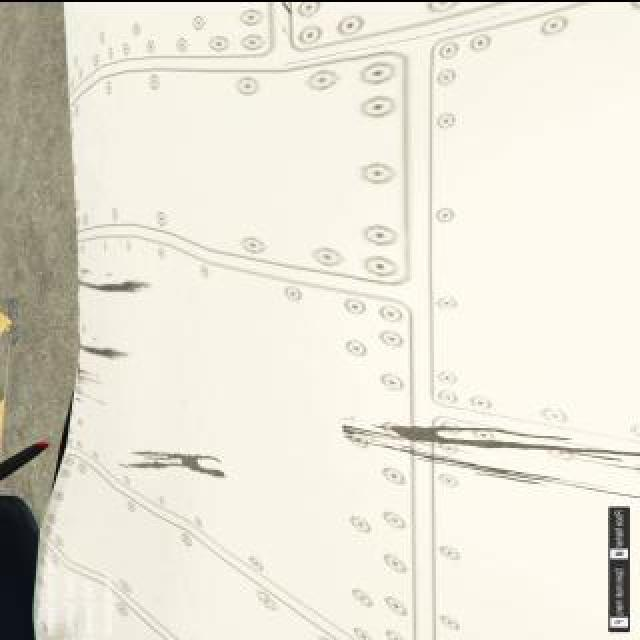dent: (392, 424, 571, 450), (125, 453, 221, 478), (79, 280, 148, 293), (76, 343, 125, 360)
